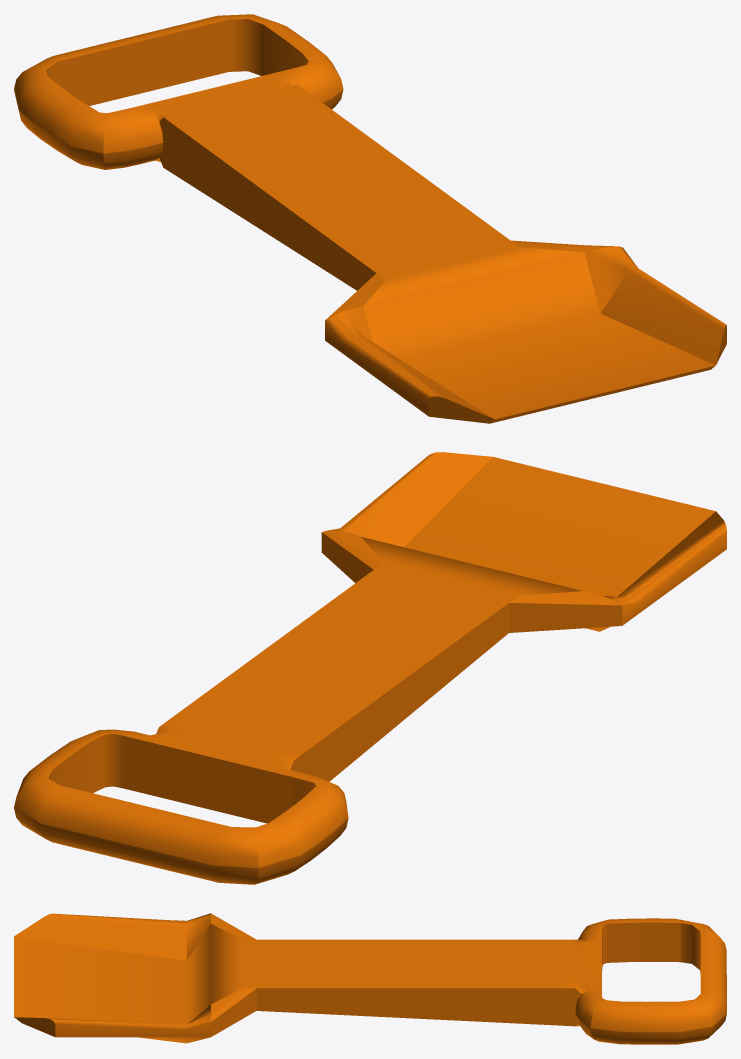
The model's file is Shovel_03.fbx.
The picture shows the model from 3 angles, top to bottom: view 1: azimuth 30°, elevation 25°; view 2: azimuth 150°, elevation 25°; view 3: azimuth 270°, elevation 25°; orthographic projection. The views are drawn at different scales.
Parts seen in each view (by area): view 1: pCube3; view 2: pCube3; view 3: pCube3.
Part boxes in pixels (left/top/right/bottom): pCube3: left=14, top=14, right=726, bottom=423; pCube3: left=14, top=452, right=726, bottom=884; pCube3: left=14, top=913, right=726, bottom=1044.
Bounding box in the file's own units: 14.34 × 2.4 × 39.68.
